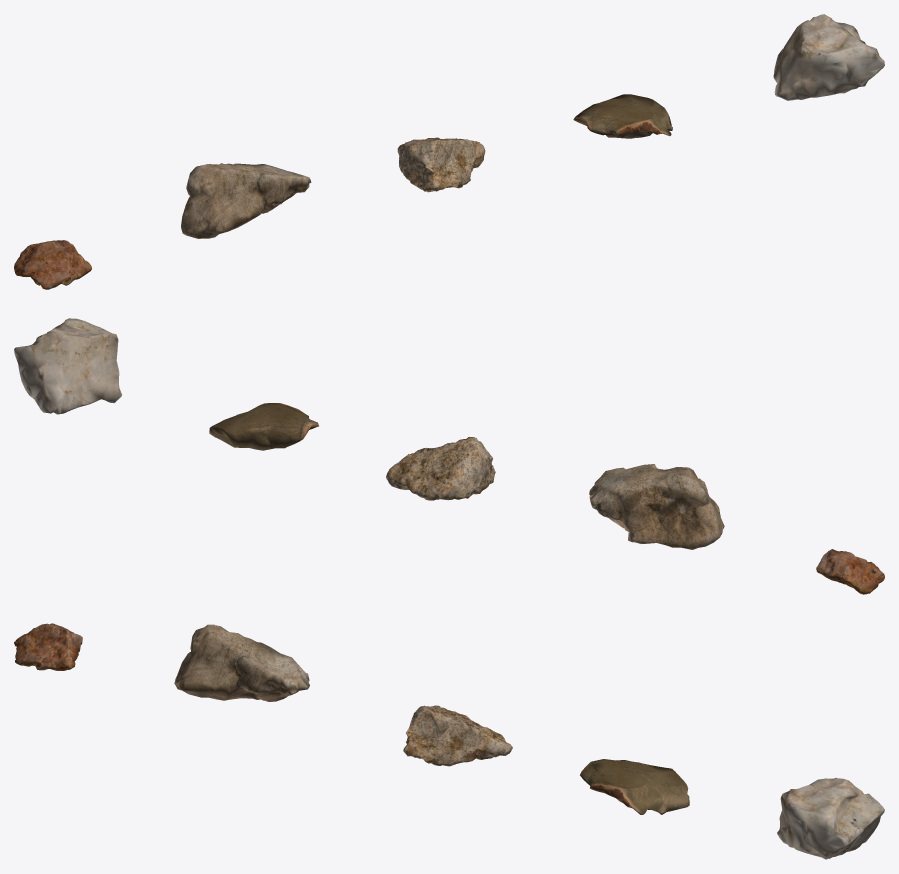
File: stones.glb
3 views of the same model, one above another, from view 1: azimuth 30°, elevation 25°; view 2: azimuth 150°, elevation 25°; view 3: azimuth 330°, elevation 25° (orthographic).
Parts seen in each view (by area): view 1: namaqualand_stones_01_e, namaqualand_stones_01_b, namaqualand_stones_01_c, namaqualand_stones_01_d, namaqualand_stones_01_a; view 2: namaqualand_stones_01_b, namaqualand_stones_01_e, namaqualand_stones_01_c, namaqualand_stones_01_d, namaqualand_stones_01_a; view 3: namaqualand_stones_01_b, namaqualand_stones_01_e, namaqualand_stones_01_c, namaqualand_stones_01_d, namaqualand_stones_01_a.
Part boxes in pixels (x1,y1,x2,y2): namaqualand_stones_01_e: [773, 14, 884, 100]; namaqualand_stones_01_b: [181, 163, 311, 238]; namaqualand_stones_01_c: [397, 137, 485, 192]; namaqualand_stones_01_d: [573, 94, 672, 138]; namaqualand_stones_01_a: [14, 240, 91, 289]; namaqualand_stones_01_b: [589, 464, 724, 549]; namaqualand_stones_01_e: [14, 318, 121, 414]; namaqualand_stones_01_c: [386, 437, 495, 500]; namaqualand_stones_01_d: [209, 403, 318, 450]; namaqualand_stones_01_a: [816, 549, 884, 594]; namaqualand_stones_01_b: [174, 624, 309, 701]; namaqualand_stones_01_e: [777, 777, 884, 859]; namaqualand_stones_01_c: [403, 705, 512, 766]; namaqualand_stones_01_d: [580, 759, 689, 814]; namaqualand_stones_01_a: [14, 623, 82, 670].
Size of the model in its own units: 1.02 by 0.084 by 0.112.
1 material, 1 textured.
